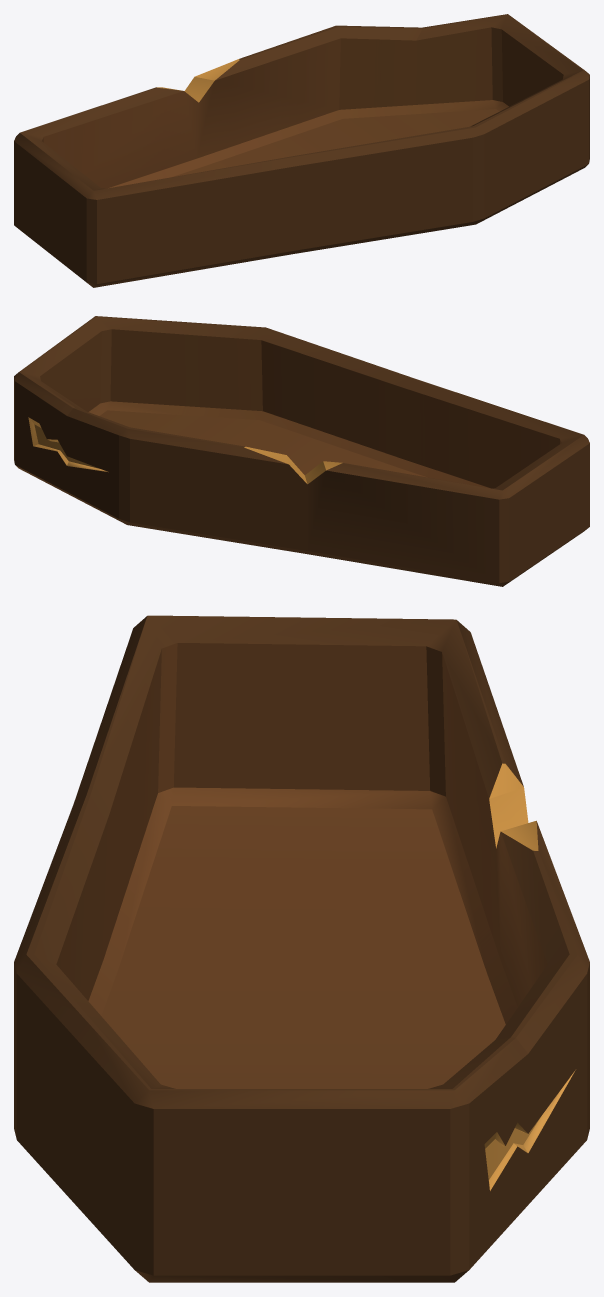
Rendered from Cofin_1_2.obj.
3 renders of one model, top to bottom at view 1: azimuth 30°, elevation 25°; view 2: azimuth 150°, elevation 25°; view 3: azimuth 270°, elevation 25°, orthographic. The views are drawn at different scales.
Visible parts, largest first — view 1: Cofin_1_2; view 2: Cofin_1_2; view 3: Cofin_1_2.
Boxes of the visible parts, x1,y1,x2,y2 form: Cofin_1_2: (14, 14, 589, 287); Cofin_1_2: (14, 316, 589, 586); Cofin_1_2: (14, 615, 589, 1282).
Bounding box in the file's own units: 1.32 × 0.2435 × 0.6612.
